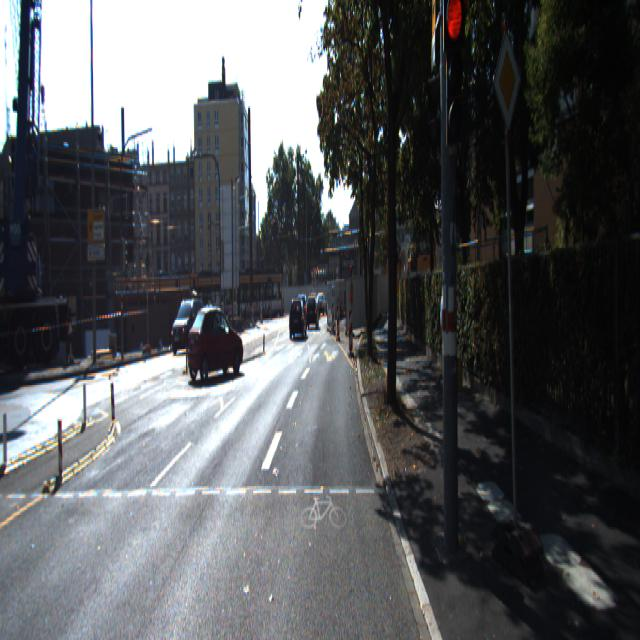Car: (186, 300, 245, 379), (170, 288, 206, 345), (289, 294, 307, 337)
